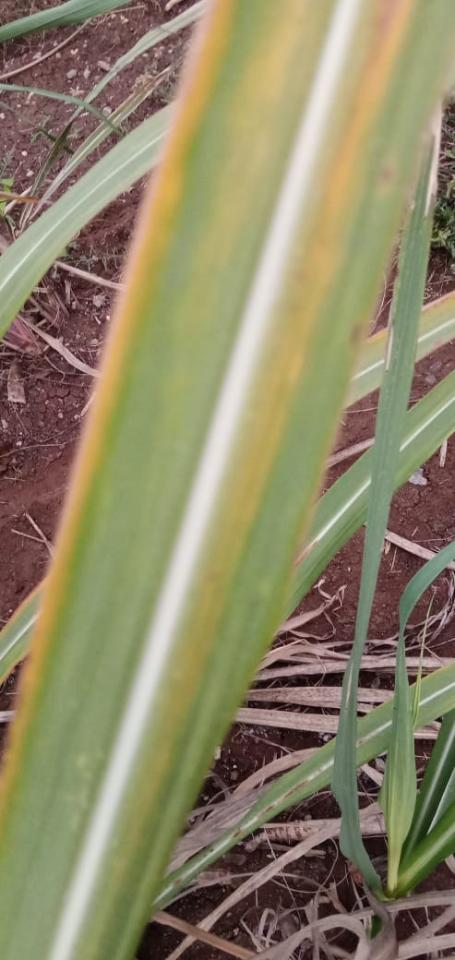Yellow: (0, 0, 240, 834), (166, 0, 423, 723), (160, 1, 309, 430)
